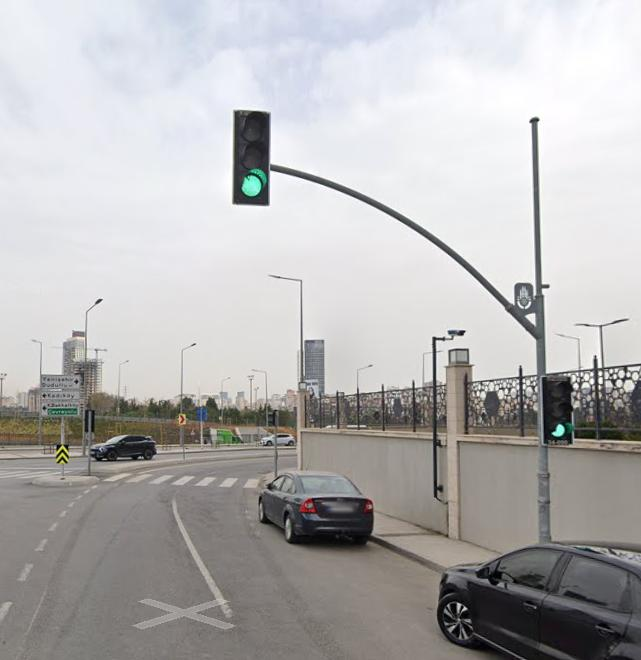greenlight: (235, 109, 269, 205), (541, 375, 573, 443)
